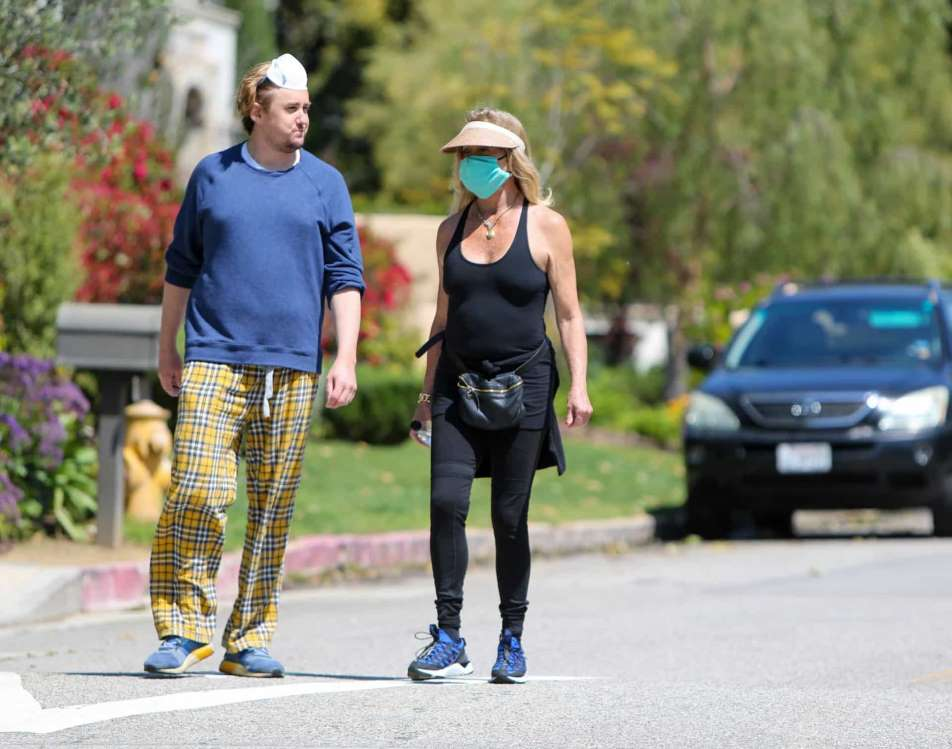mask_weared_incorrect: (265, 75, 314, 153)
with_mask: (456, 147, 508, 190)
